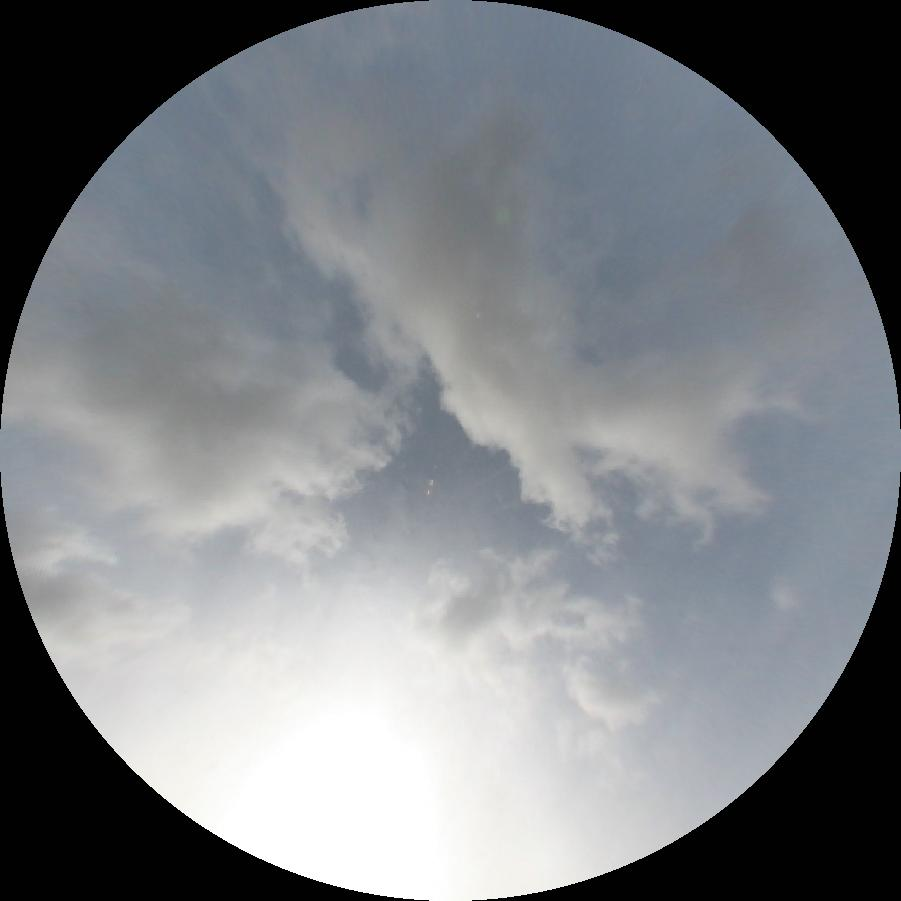sun: (139, 661, 461, 897)
